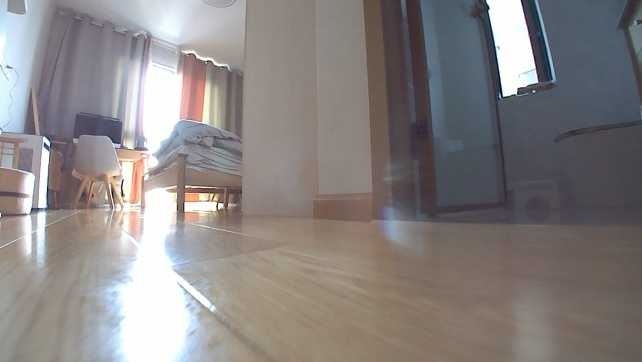bed1: (139, 114, 241, 213)
door_anno: (357, 0, 508, 224)
toilet: (553, 121, 641, 210)
